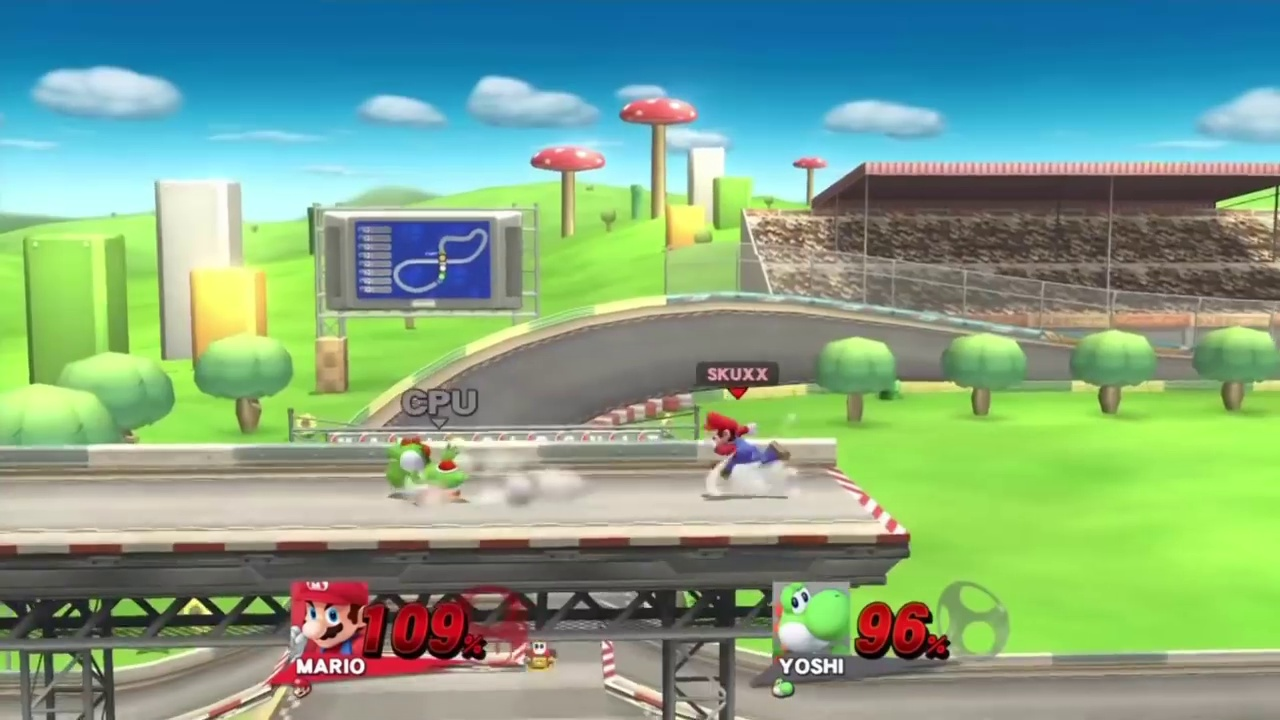Mario: (702, 413, 787, 490)
